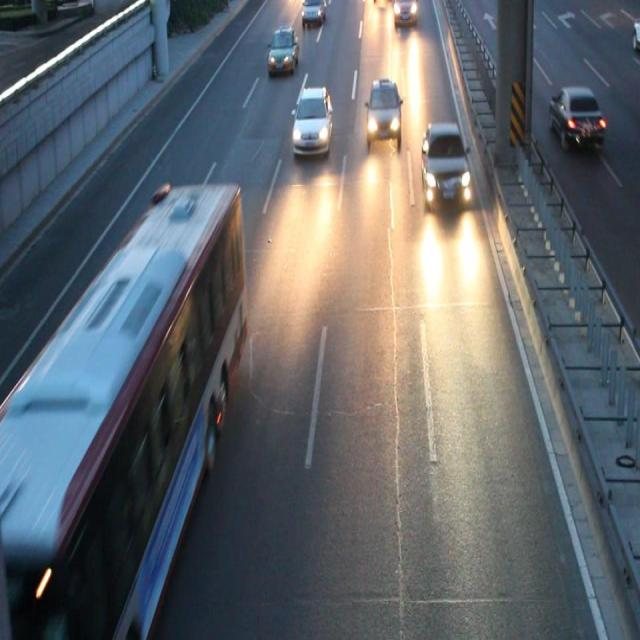car: (420, 123, 468, 203), (548, 87, 602, 145), (293, 88, 331, 153), (366, 80, 400, 140), (268, 28, 298, 73), (392, 1, 416, 26), (301, 1, 325, 24)
van: (0, 183, 243, 640)
